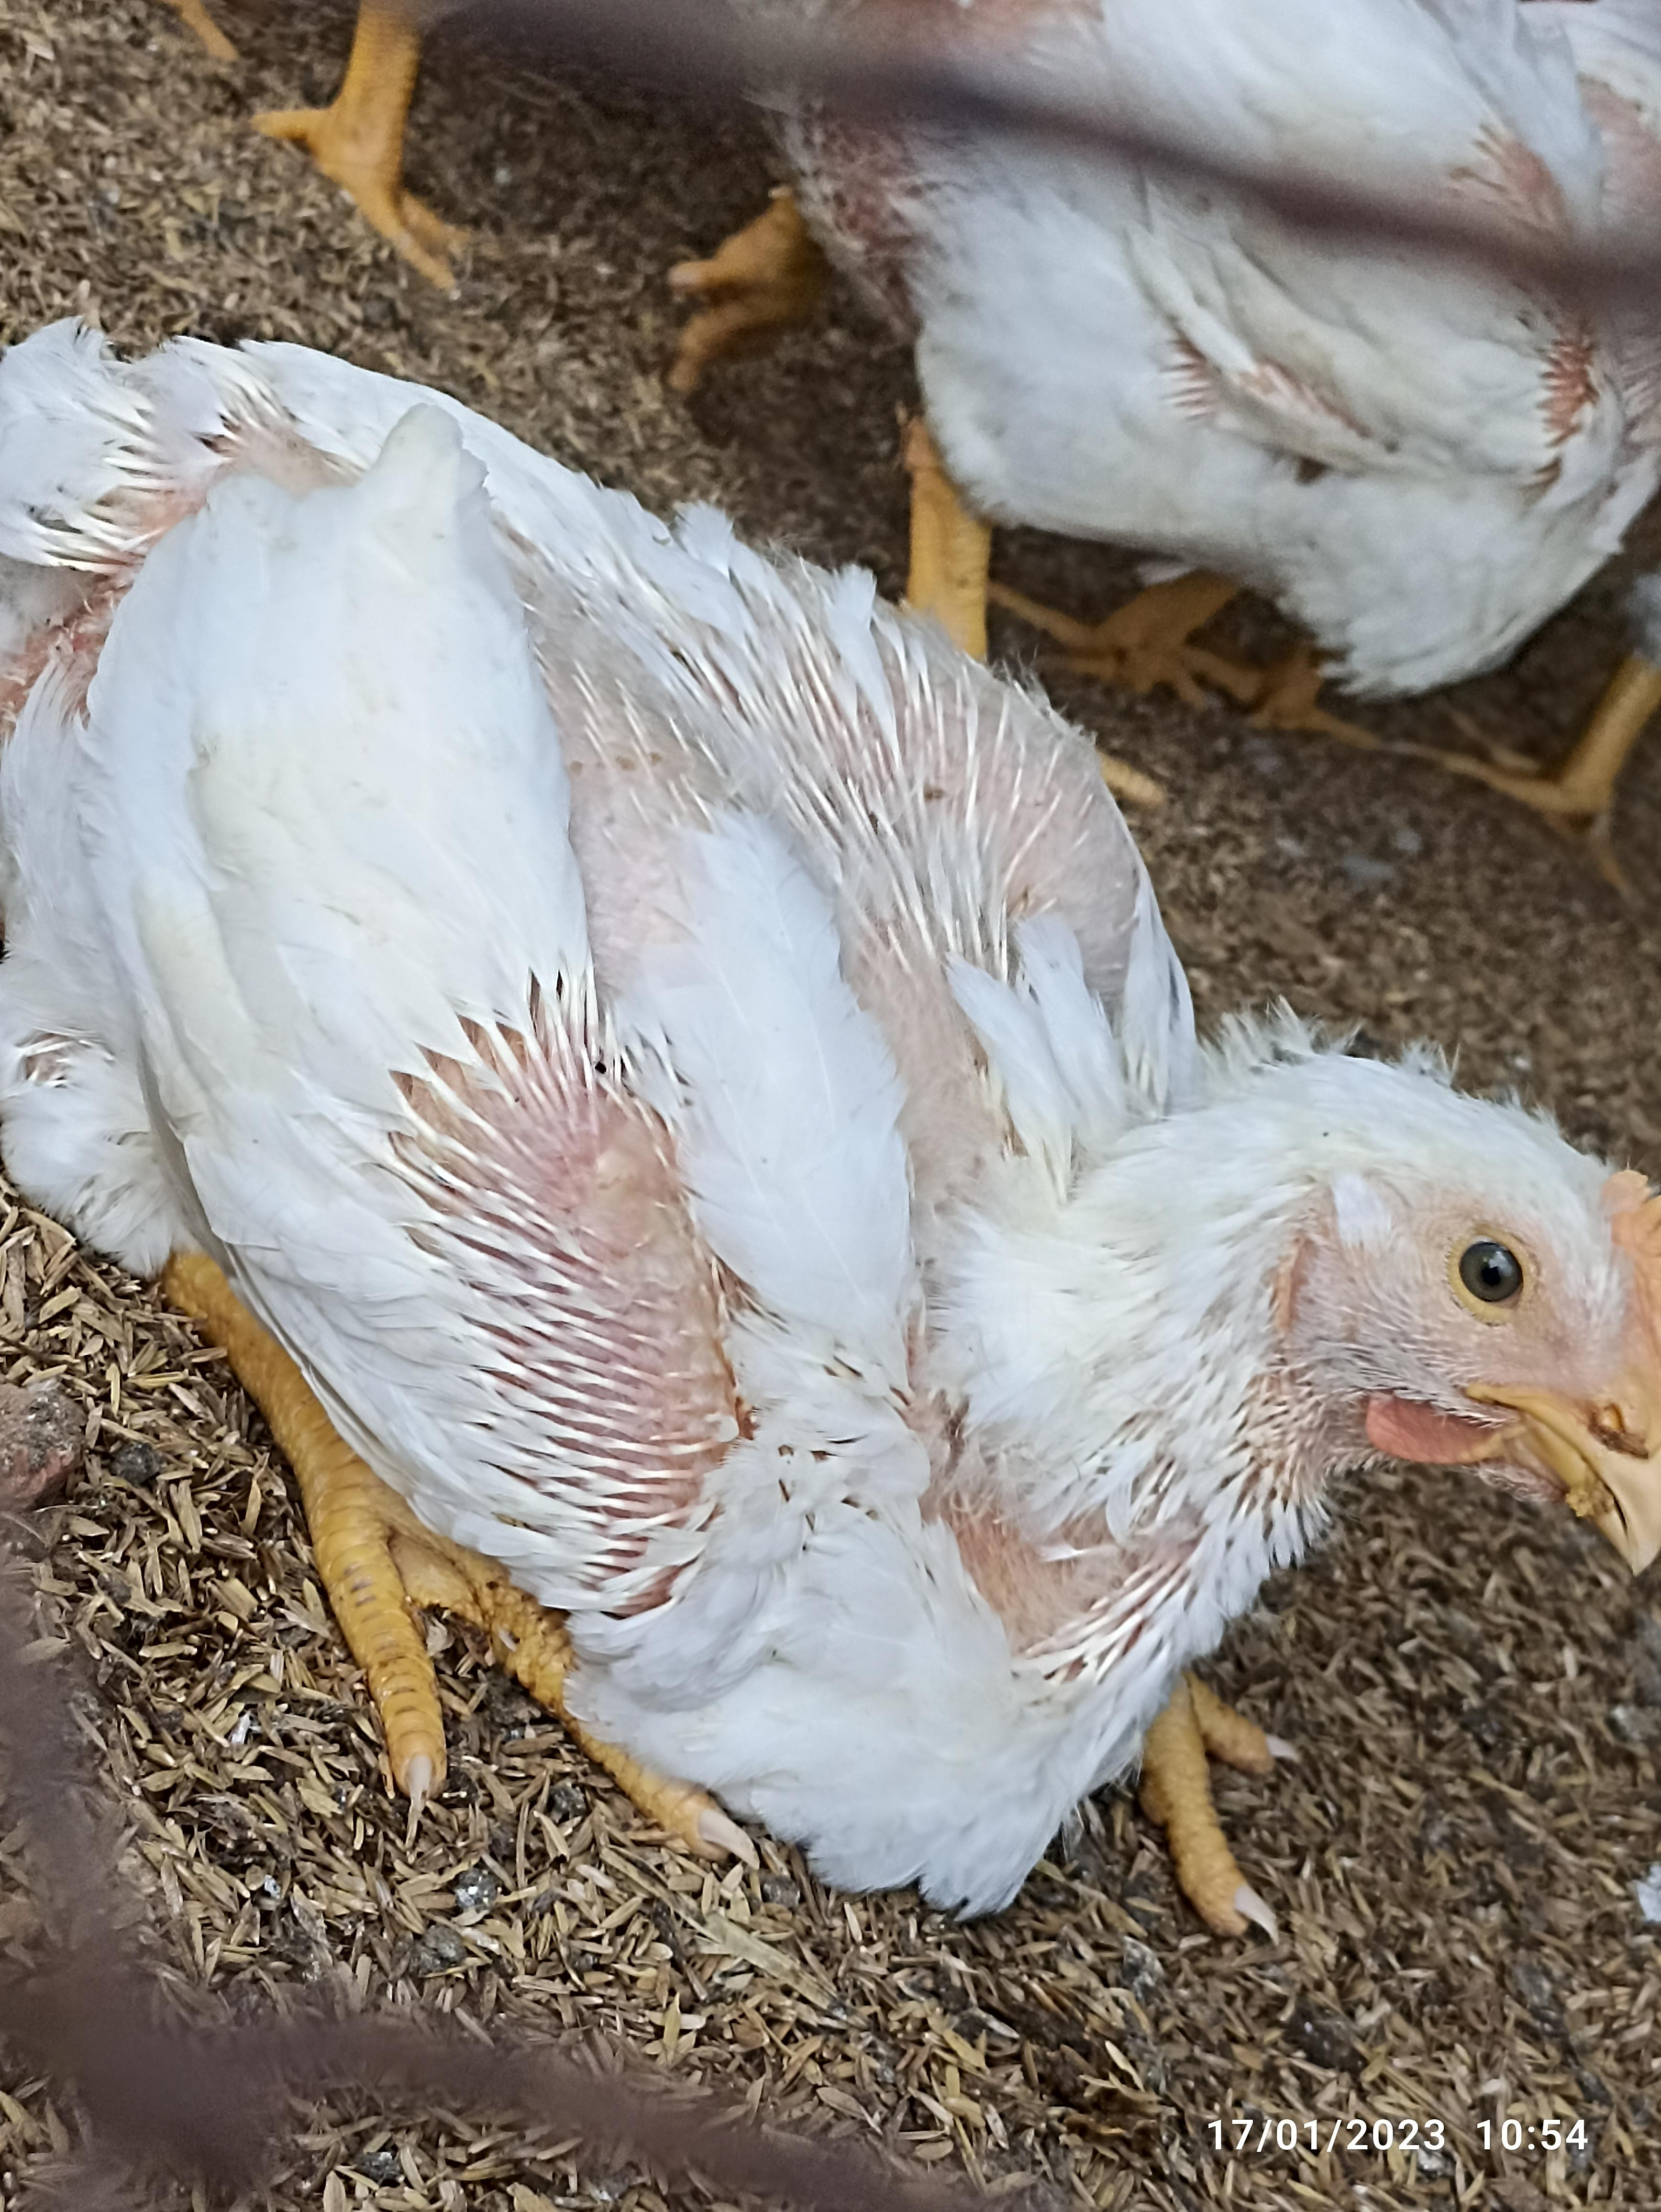Pollos: (16, 324, 1661, 1915)
